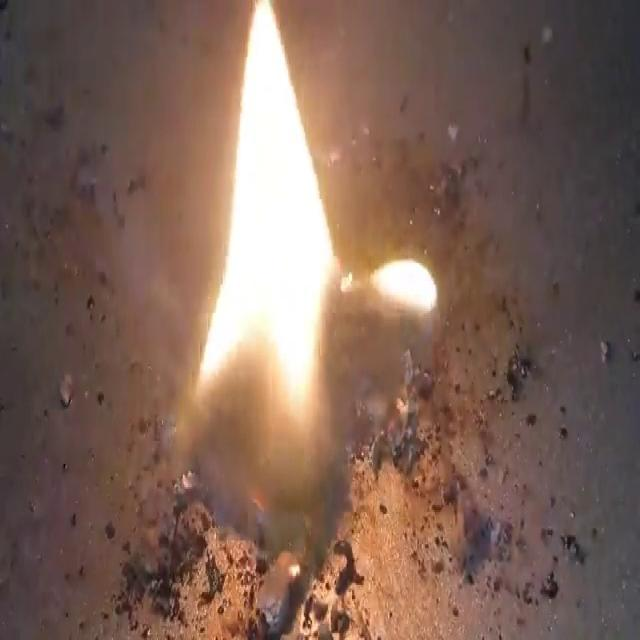Fire: (193, 4, 338, 428)
